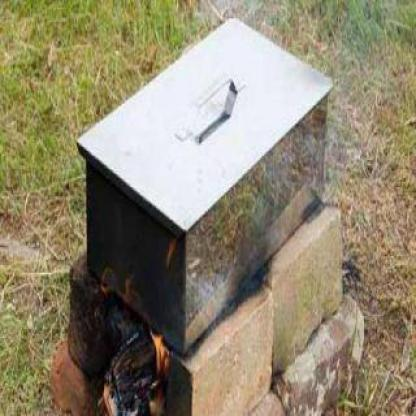fire: (139, 318, 178, 414), (88, 262, 142, 318)
